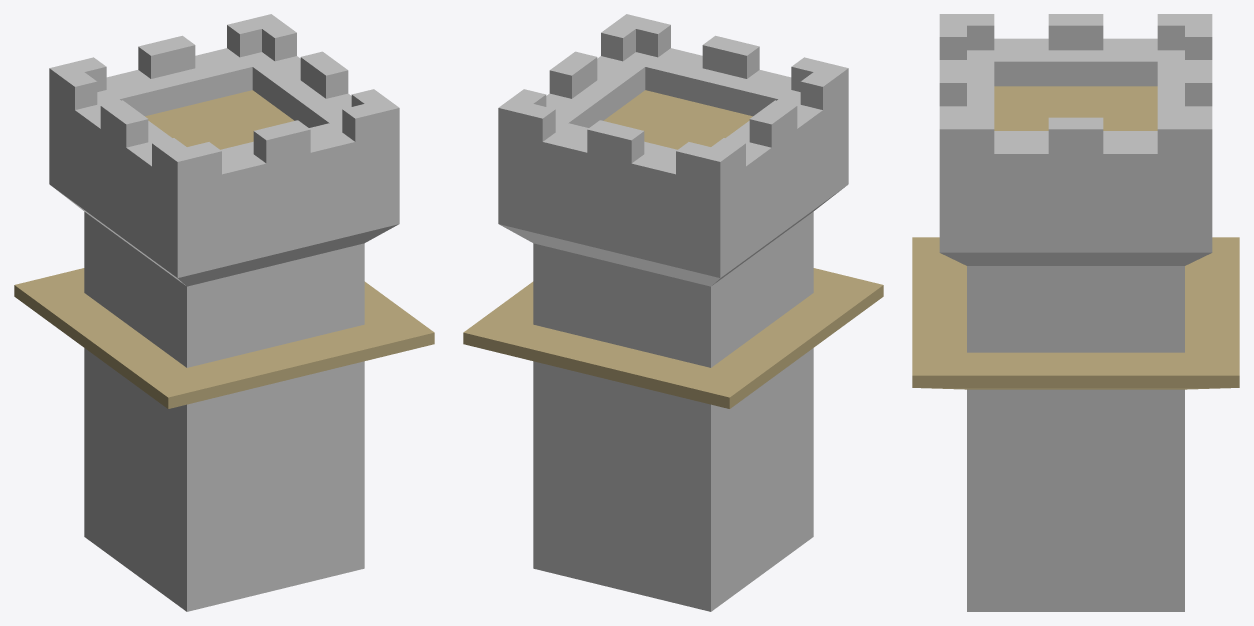
File: tower.dae
3 renders of one model, left to right at view 1: azimuth 30°, elevation 25°; view 2: azimuth 150°, elevation 25°; view 3: azimuth 270°, elevation 25°, orthographic. The views are drawn at different scales.
Parts seen in each view (by area): view 1: mesh; view 2: mesh; view 3: mesh.
Part boxes in pixels (x1,y1,x2,y2): mesh: [14, 14, 434, 611]; mesh: [463, 14, 883, 611]; mesh: [912, 14, 1239, 611].
Size of the model in its own units: 12 by 12 by 20.
